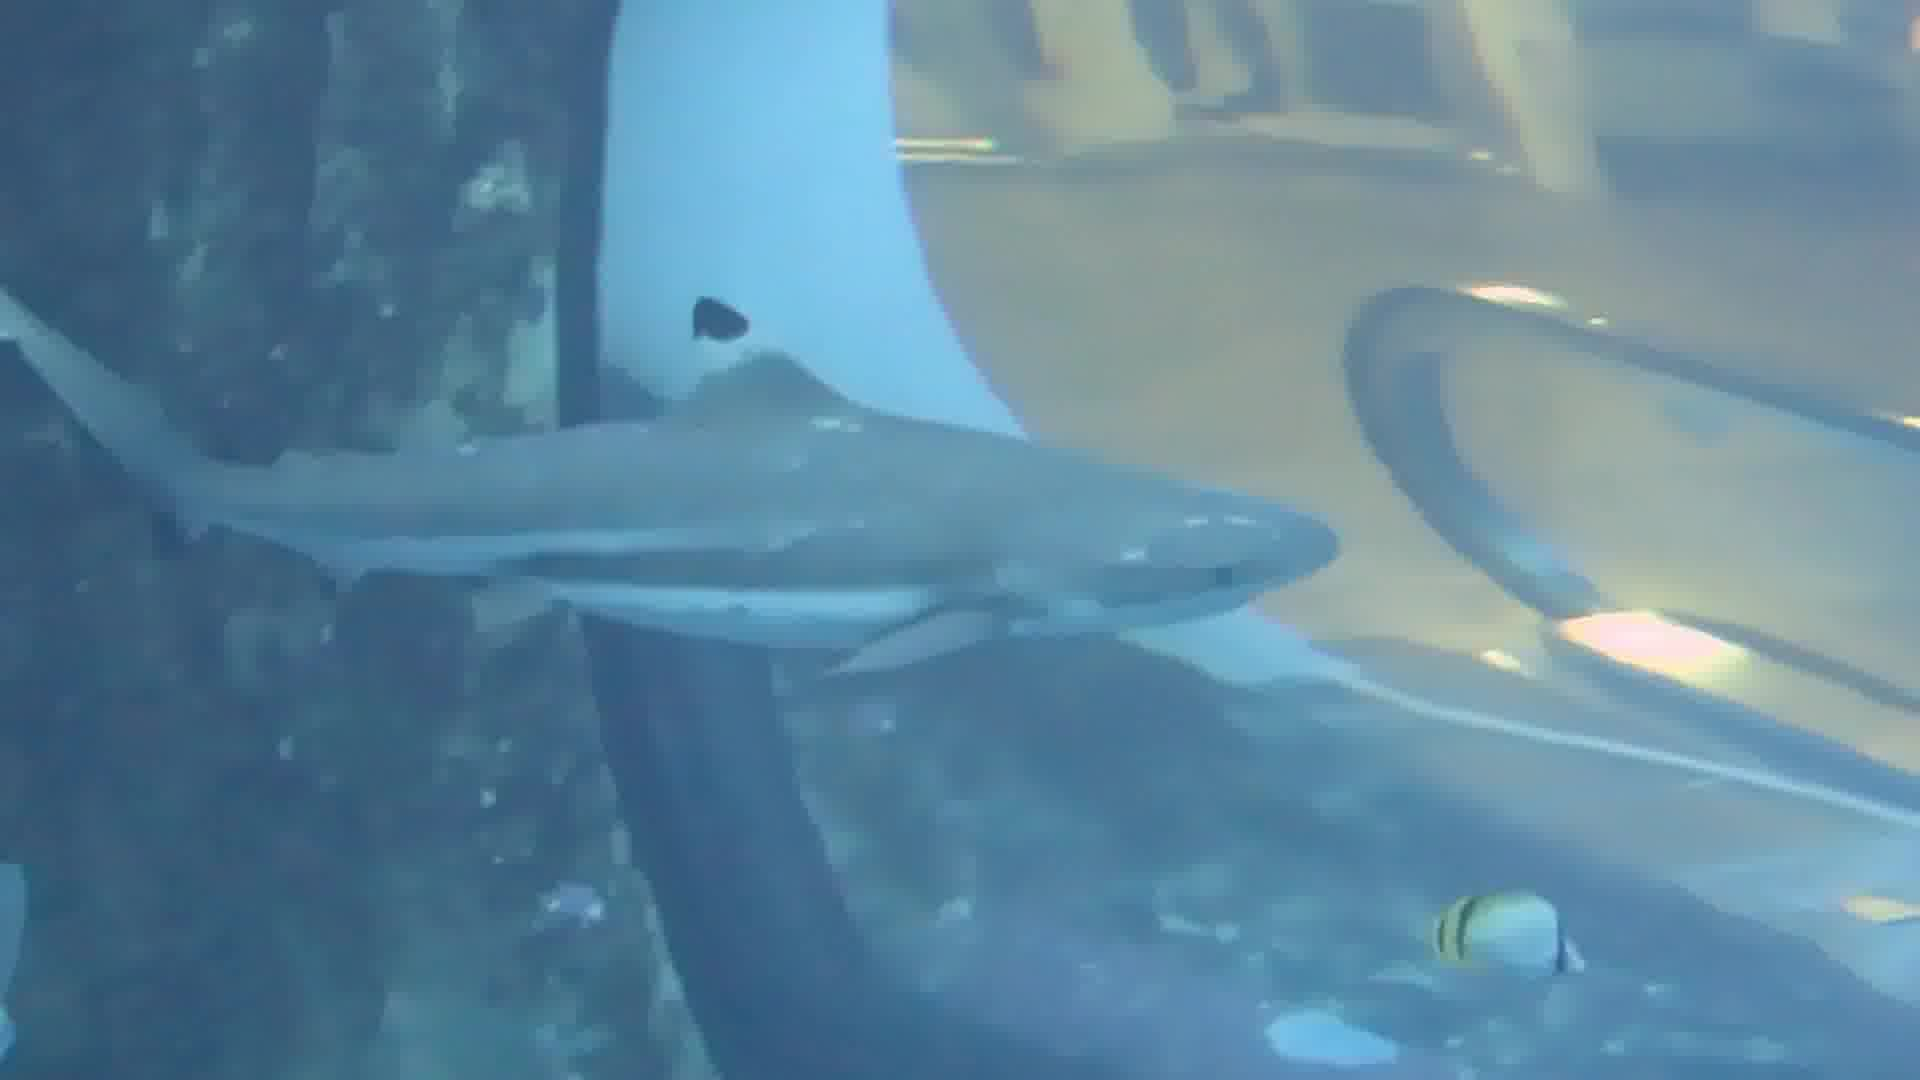Carcharhinus melanopterus: (1, 214, 1356, 669)
